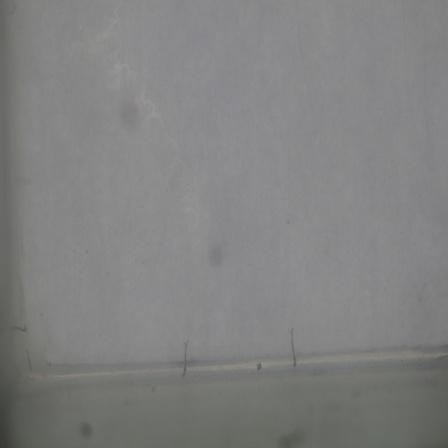Jentik-Nyamuk: (177, 336, 191, 381), (288, 327, 299, 367)
